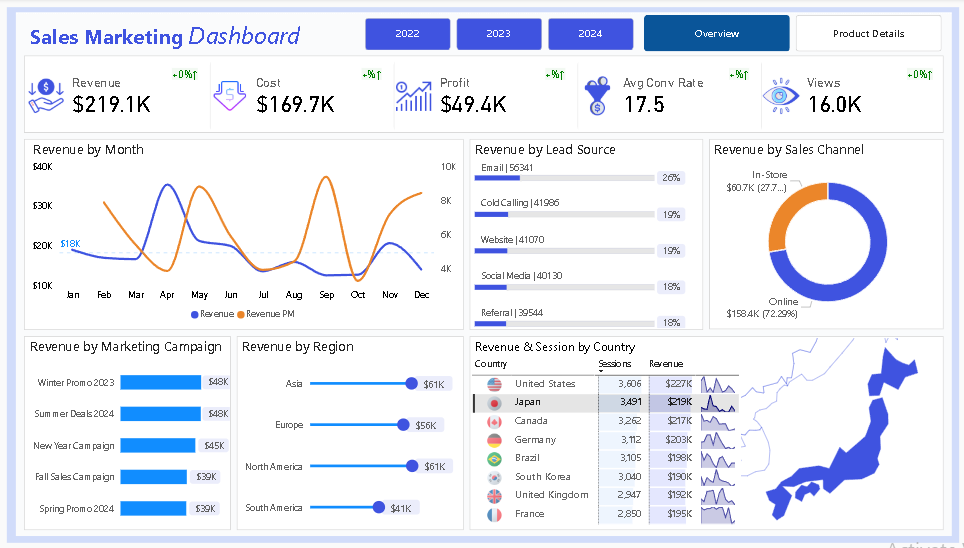

What the dashboard file says about the page in this screenshot:
{"tool":"powerbi","page":{"name":"Overview","canvas":[1300,750],"ordinal":0},"visuals":[{"type":"advancedSlicerVisual","fields":{"Values":["Calendar.Year"]},"box":[491,27.1,363,43.7],"z":0},{"type":"cardVisual","fields":{"Data":["All Measures.Revenue","All Measures.Cost","All Measures.Profit","All Measures.Avg Conversion Rate","All Measures.Views"]},"box":[34.6,81.3,1231.9,99.4],"z":1000},{"type":"lineChart","title":"Revenue by Month","fields":{"Y":["All Measures.Revenue"],"Category":["Calendar.Month"],"Y2":["All Measures.Revenue PM"]},"box":[34.6,192.8,587.3,251.5],"z":2000},{"type":"clusteredBarChart","title":"Revenue by Lead Source","fields":{"Y":["All Measures.Base Zero","All Measures.Rev % of lead","All Measures.Whole"],"Category":["dimLeadSource.Lead Source"]},"box":[632.5,192.8,311.7,251.5],"z":3000},{"type":"clusteredBarChart","fields":{"Y":["All Measures.Revenue"],"Category":["dimMarketingCampaign.Marketing Campaign"]},"box":[34.6,456.3,274.1,257.5],"z":4000},{"type":"donutChart","fields":{"Y":["All Measures.Revenue"],"Category":["dimChannel.Sales Channel"]},"box":[954.8,192.8,311.7,251.5],"z":5000},{"type":"clusteredBarChart","title":"Revenue by Region","fields":{"Y":["All Measures.Blank1","All Measures.Revenue","All Measures.Blank2"],"Category":["dimCountry.Region"]},"box":[319.3,456.3,302.7,257.5],"z":6000},{"type":"tableEx","fields":{"Values":["dimCountry.flag","dimCountry.Country","All Measures.Sessions","All Measures.Revenue","All Measures.Revenue Sparkline"]},"box":[632.5,481.9,363,231.9],"z":7000},{"type":"shapeMap","fields":{"Value":["All Measures.Revenue"],"Category":["dimCountry.Country"]},"box":[995.5,456.3,271.1,257.5],"z":8000},{"type":"textbox","box":[40.7,25.6,420.2,45.2],"z":9000},{"type":"textbox","box":[638.6,456.3,301.2,25.6],"z":10000},{"type":"pageNavigator","box":[866,22.6,400.6,49.7],"z":11000}]}

Visuals, with their boxes in screenshot pixels (x1, y1, x2, y2), scaled from the page's 1300x750 canvas onto the 964x548 screenshot:
advancedSlicerVisual - Calendar.Year: (364,20,633,52)
cardVisual - All Measures.Revenue x All Measures.Cost: (26,59,939,132)
"Revenue by Month" lineChart: (26,141,461,325)
"Revenue by Lead Source" clusteredBarChart: (469,141,700,325)
clusteredBarChart - All Measures.Revenue x dimMarketingCampaign.Marketing Campaign: (26,333,229,522)
donutChart - All Measures.Revenue x dimChannel.Sales Channel: (708,141,939,325)
"Revenue by Region" clusteredBarChart: (237,333,461,522)
tableEx - dimCountry.flag x dimCountry.Country: (469,352,738,522)
shapeMap - All Measures.Revenue x dimCountry.Country: (738,333,939,522)
textbox: (30,19,342,52)
textbox: (474,333,697,352)
pageNavigator: (642,17,939,53)
